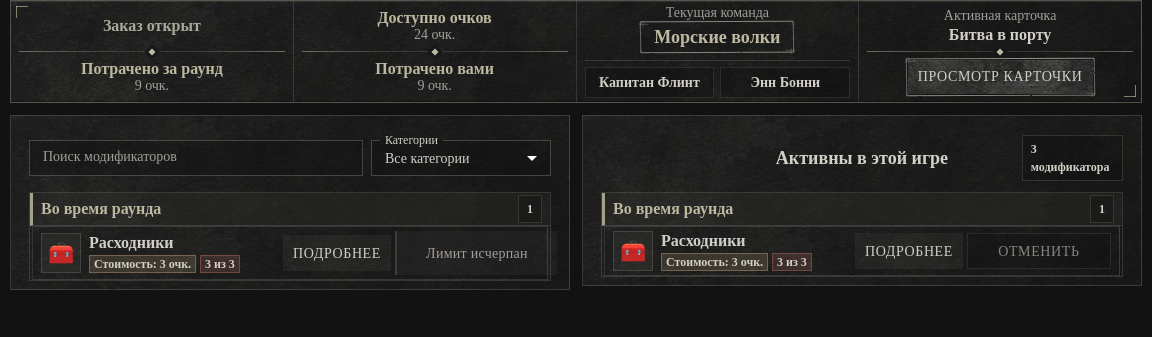
GameModifiersPage › shows the compact limit_reached status with its detailed tooltip
Expected: the message named "Лимит активаций исчерпан." reads "Лимит исчерпан", [426,246,528,260]
Expected: the text "Лимит активаций исчерпан." is not shown
Hover over the message named "Лимит активаций исчерпан." at (476, 253), box [395,231,557,275]
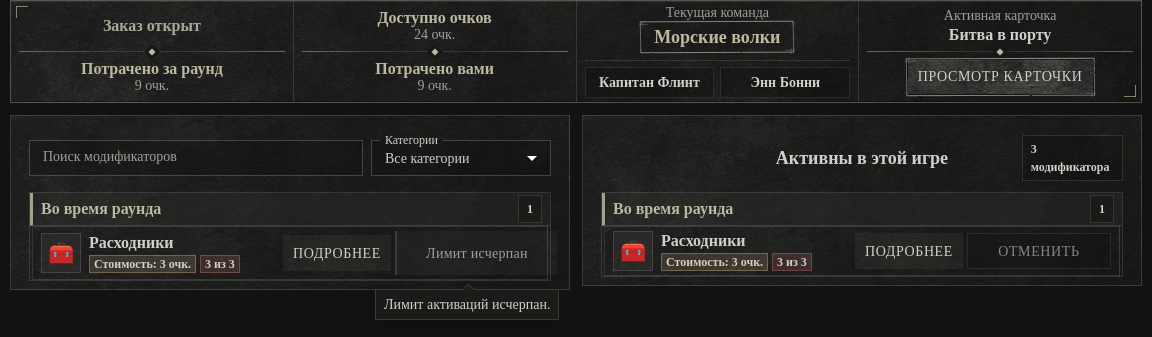
Expected: the tooltip reads "Лимит активаций исчерпан.", [384,297,550,312]
